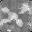people: (19, 2, 29, 14), (8, 12, 18, 21), (0, 18, 11, 26), (1, 7, 10, 15), (16, 19, 24, 27)
